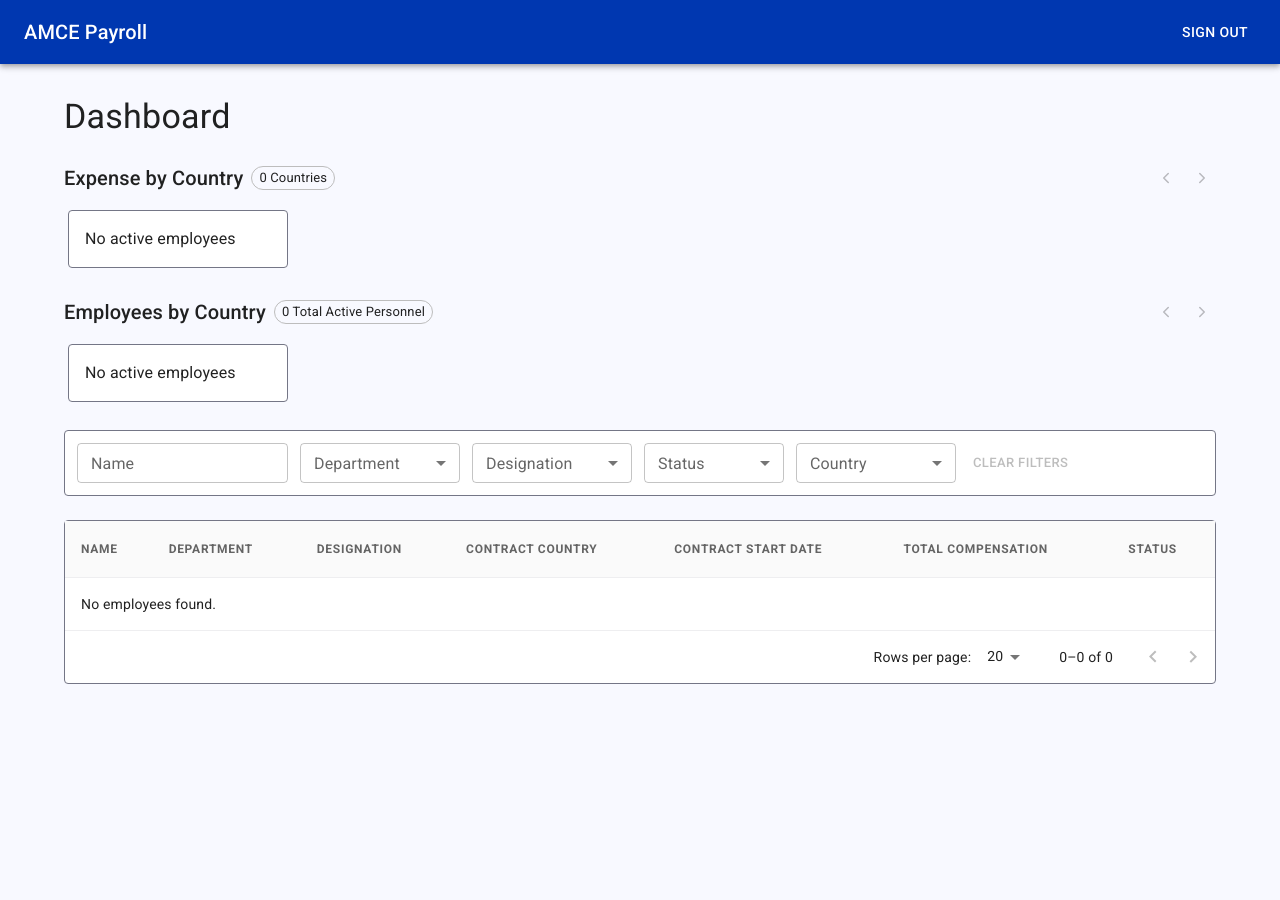
it: routes › signs a visitor out of the dashboard and back to sign-in
What coordinates should you click on to do the following:
click the button "Sign out"
I would click on:
 (1215, 32)
Its box is [1174, 14, 1256, 50].
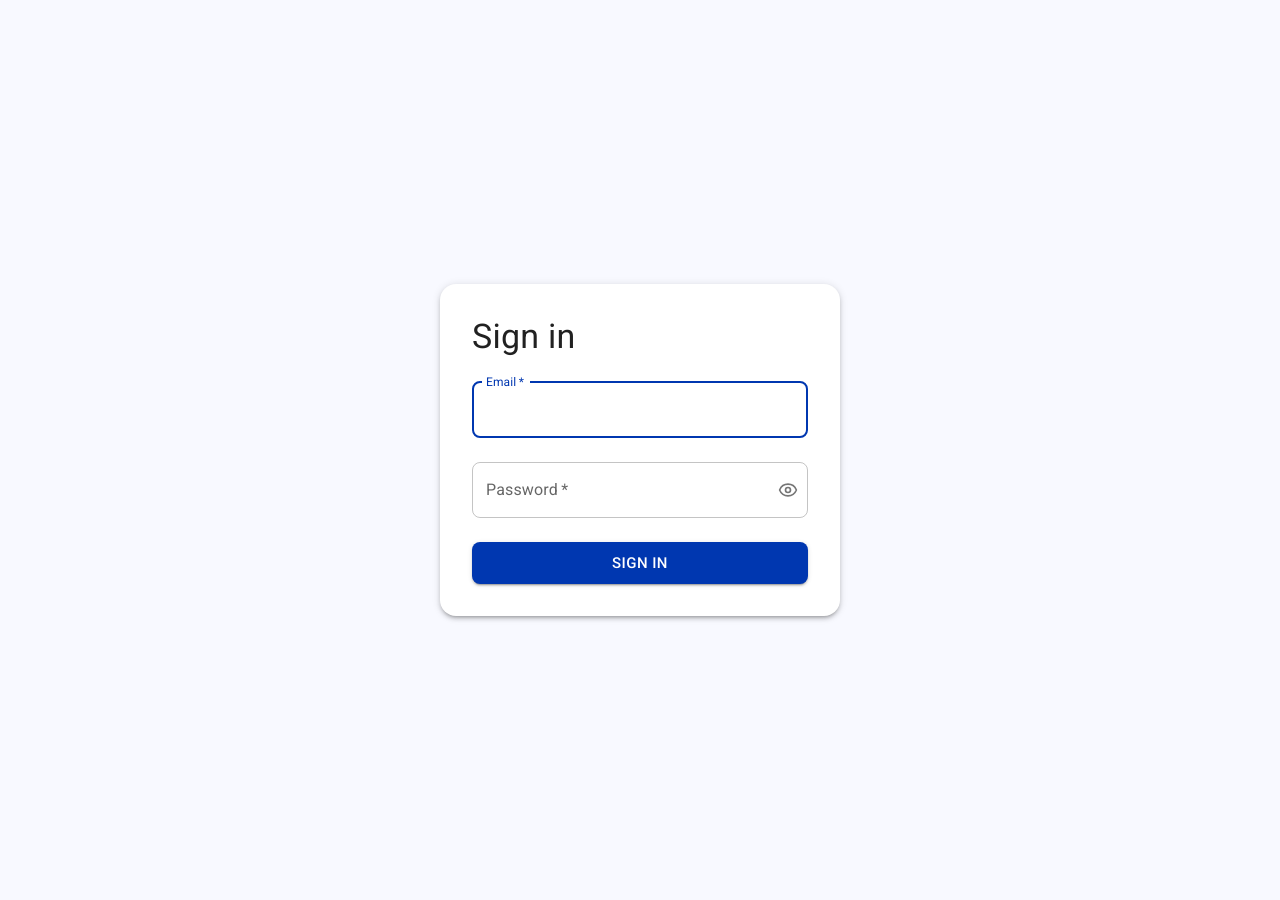
Now the heading "Sign in" is shown, box [472, 316, 576, 356]
